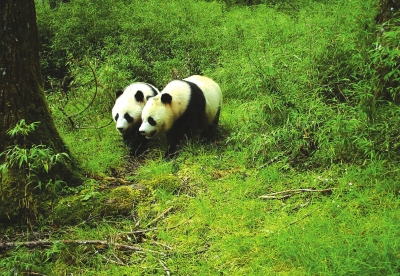panda: (142, 75, 237, 142), (107, 72, 156, 139)
